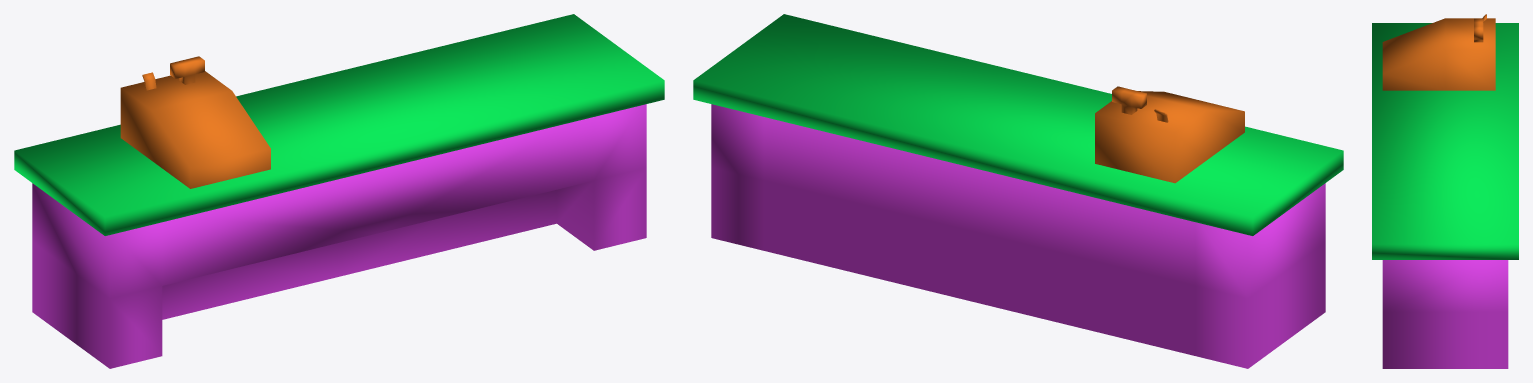
File: CajeroLaura_low.fbx
3 views of the same model, side by side, from view 1: azimuth 30°, elevation 25°; view 2: azimuth 150°, elevation 25°; view 3: azimuth 270°, elevation 25° (orthographic). The views are drawn at different scales.
Visible parts, largest first — view 1: Base_low, Encimera_low, Caja_low; view 2: Base_low, Encimera_low, Caja_low; view 3: Encimera_low, Base_low, Caja_low.
Boxes of the visible parts, x1,y1,x2,y2 form: Base_low: (32, 104, 646, 368); Encimera_low: (14, 14, 664, 235); Caja_low: (120, 56, 270, 188); Base_low: (711, 104, 1325, 368); Encimera_low: (693, 14, 1343, 235); Caja_low: (1095, 86, 1244, 183); Encimera_low: (1372, 23, 1518, 259); Base_low: (1382, 260, 1508, 368); Caja_low: (1382, 14, 1495, 90).
Bounding box in the file's own units: 209 × 82.01 × 58.58.
